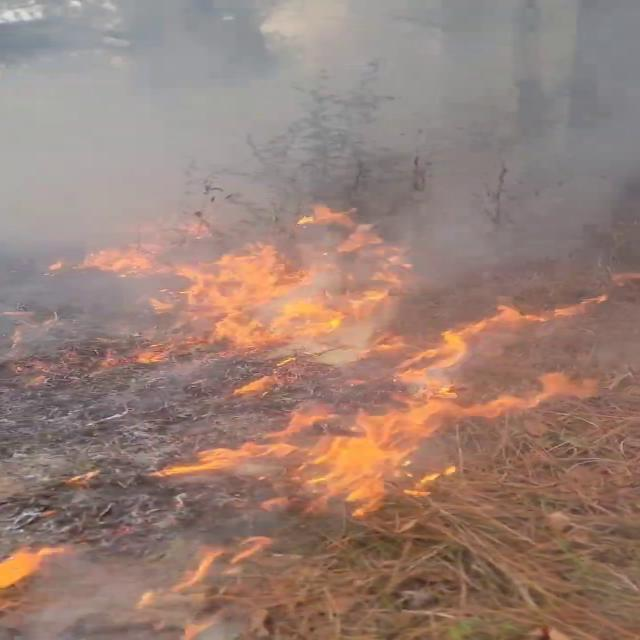Fire: (236, 316, 564, 516), (96, 200, 409, 370), (0, 523, 251, 633)
Smoke: (6, 0, 640, 294)
